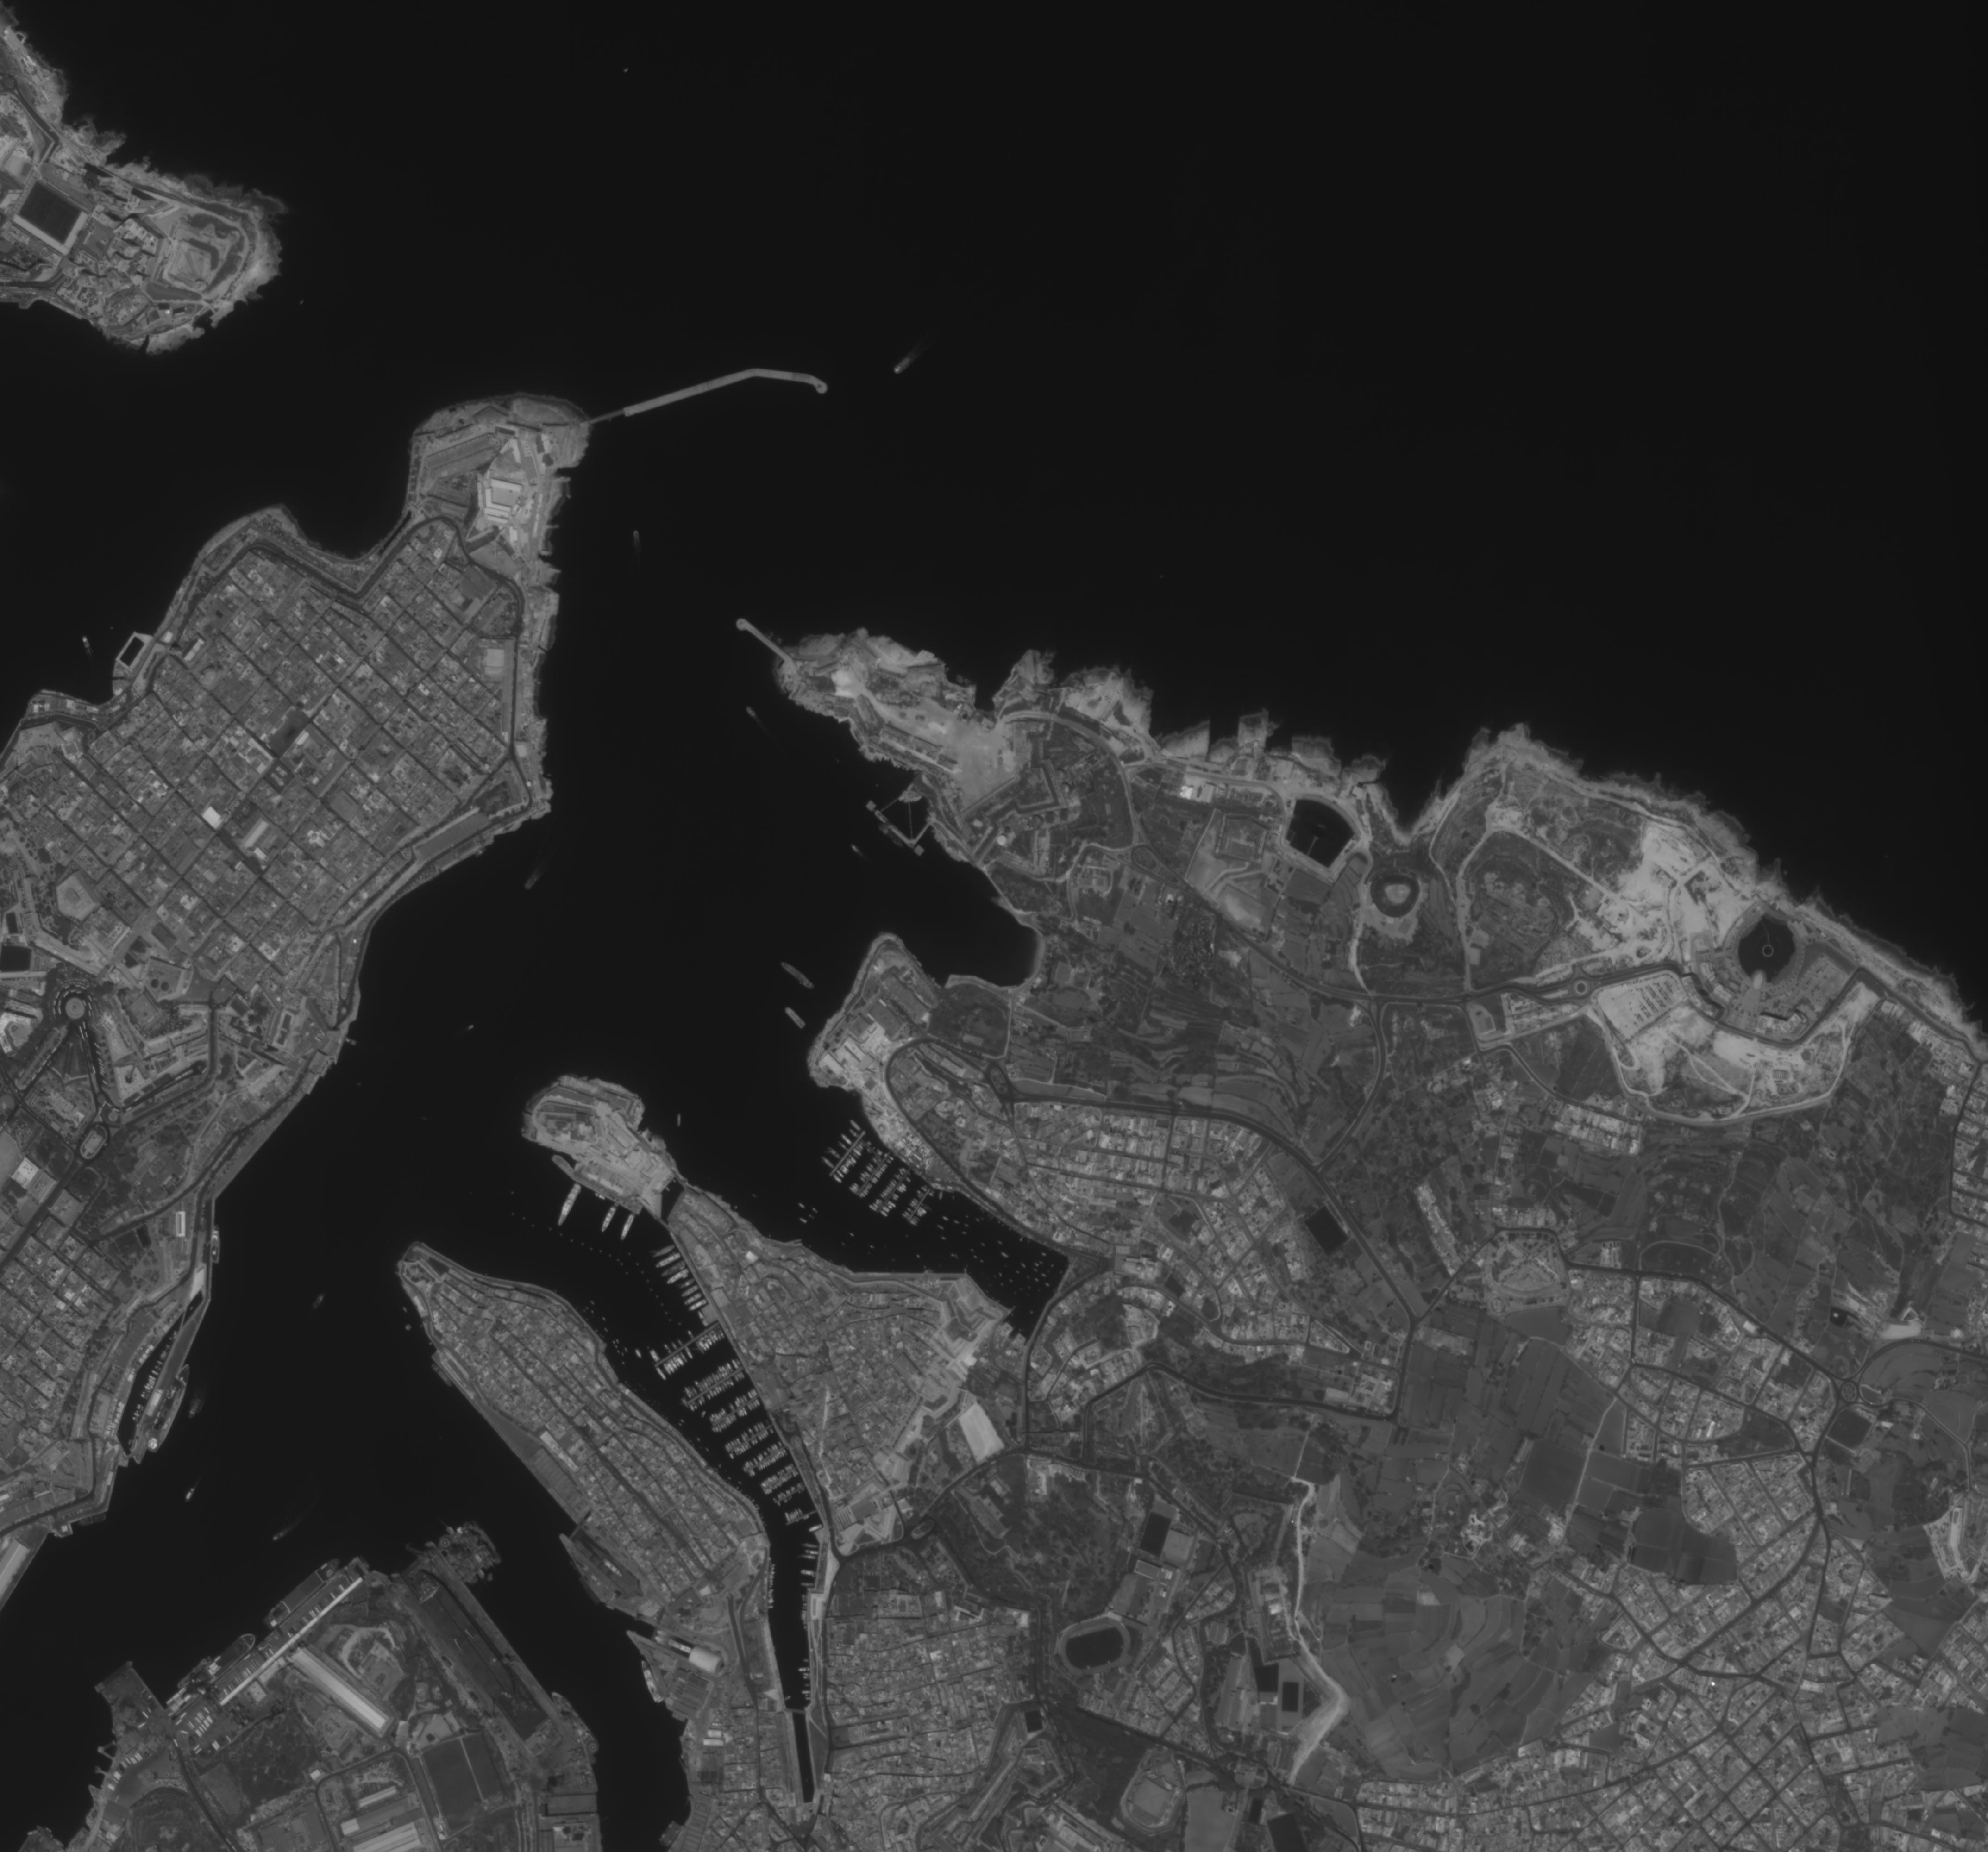harbor: (860, 773, 949, 860), (648, 1311, 731, 1379), (815, 1116, 879, 1184), (677, 1356, 750, 1415), (731, 613, 792, 665), (705, 1386, 766, 1438), (848, 1142, 898, 1203), (869, 1163, 919, 1220), (722, 1413, 780, 1462), (738, 1439, 790, 1481), (900, 1182, 938, 1227), (757, 1460, 803, 1497), (782, 1499, 820, 1532), (771, 1480, 809, 1509)
ship: (406, 1565, 521, 1706), (258, 1553, 345, 1634), (143, 1363, 197, 1459), (547, 1688, 602, 1756), (204, 1627, 263, 1681), (433, 1530, 484, 1589), (460, 1518, 505, 1567), (554, 1180, 587, 1231), (776, 957, 820, 994), (176, 1654, 212, 1690), (637, 1659, 663, 1704), (780, 1003, 811, 1032), (597, 1203, 623, 1236), (656, 1819, 684, 1849), (890, 352, 919, 378), (618, 1211, 641, 1243), (653, 1250, 684, 1272), (663, 1267, 693, 1290), (649, 1241, 681, 1262), (185, 1394, 207, 1422), (660, 1258, 689, 1279), (430, 1363, 454, 1387), (308, 1290, 329, 1314), (181, 1483, 202, 1506), (679, 1283, 703, 1302), (211, 1222, 221, 1265), (686, 1297, 709, 1316), (682, 1290, 705, 1307), (743, 703, 761, 721), (806, 1521, 825, 1535), (78, 634, 92, 653), (270, 1530, 285, 1546), (799, 1567, 816, 1579), (801, 1540, 820, 1551), (799, 1553, 818, 1561), (801, 1580, 815, 1589), (804, 1549, 820, 1556)
